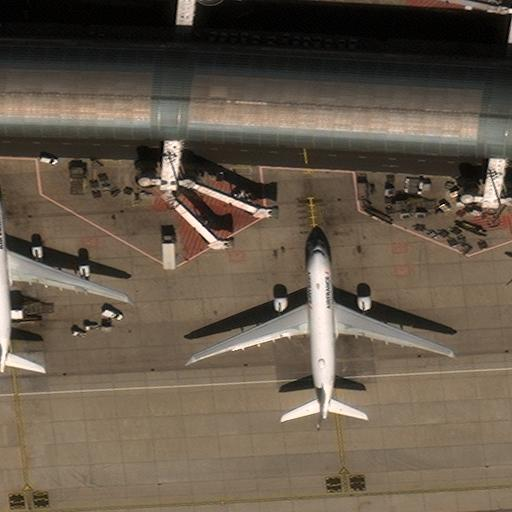Large Civil Transport: (191, 245, 451, 418), (0, 193, 126, 372)
